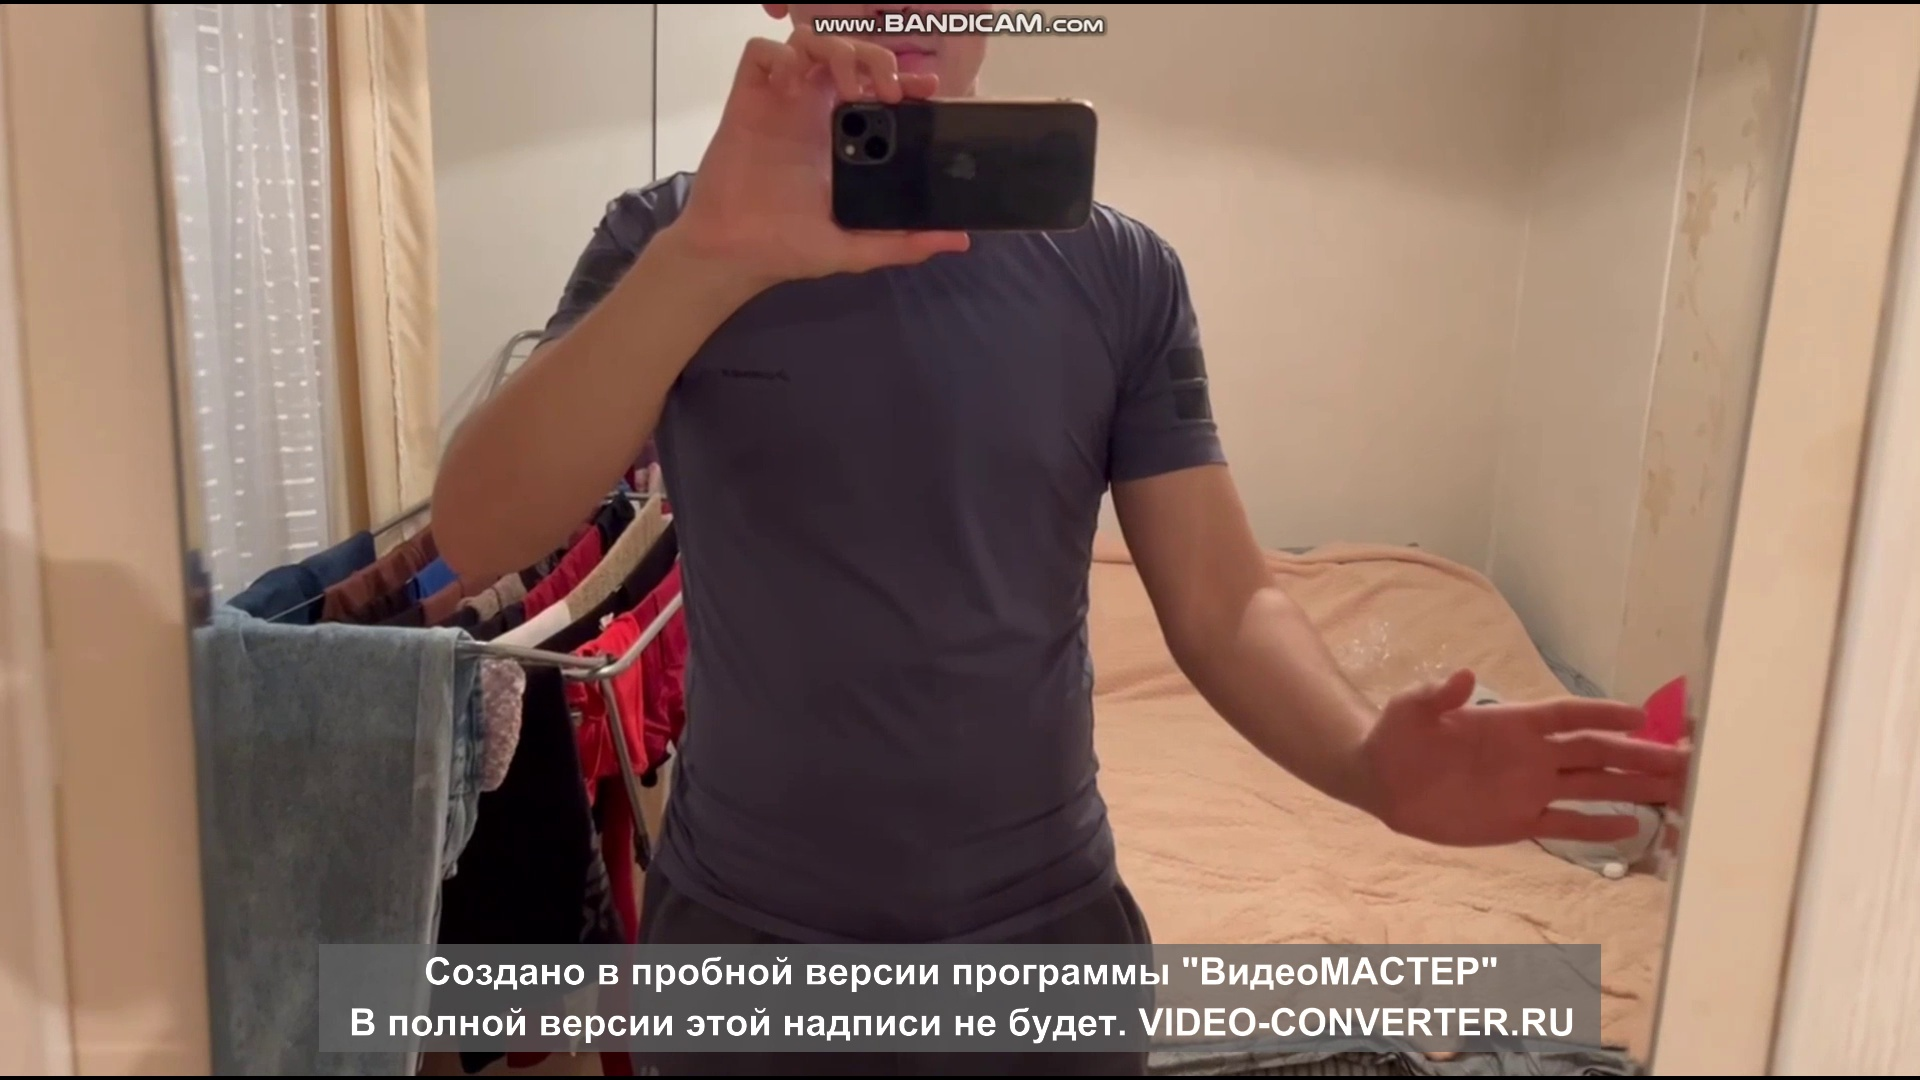Ладонь: (1371, 670, 1696, 851)
